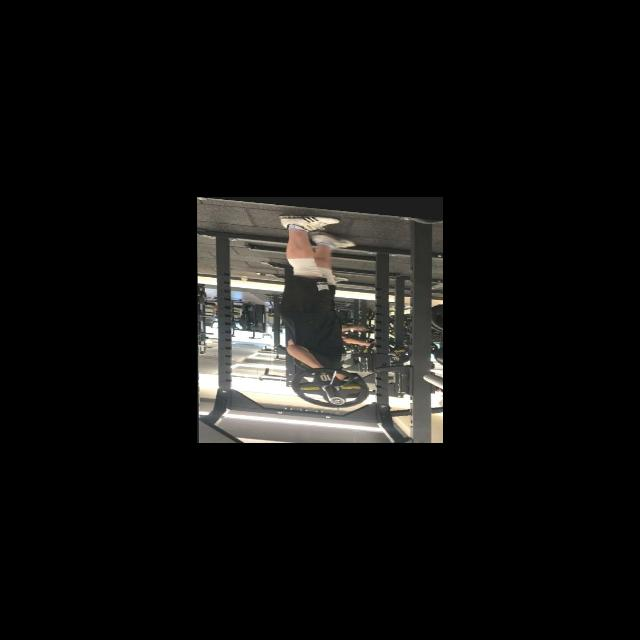barbell: (284, 360, 377, 410)
